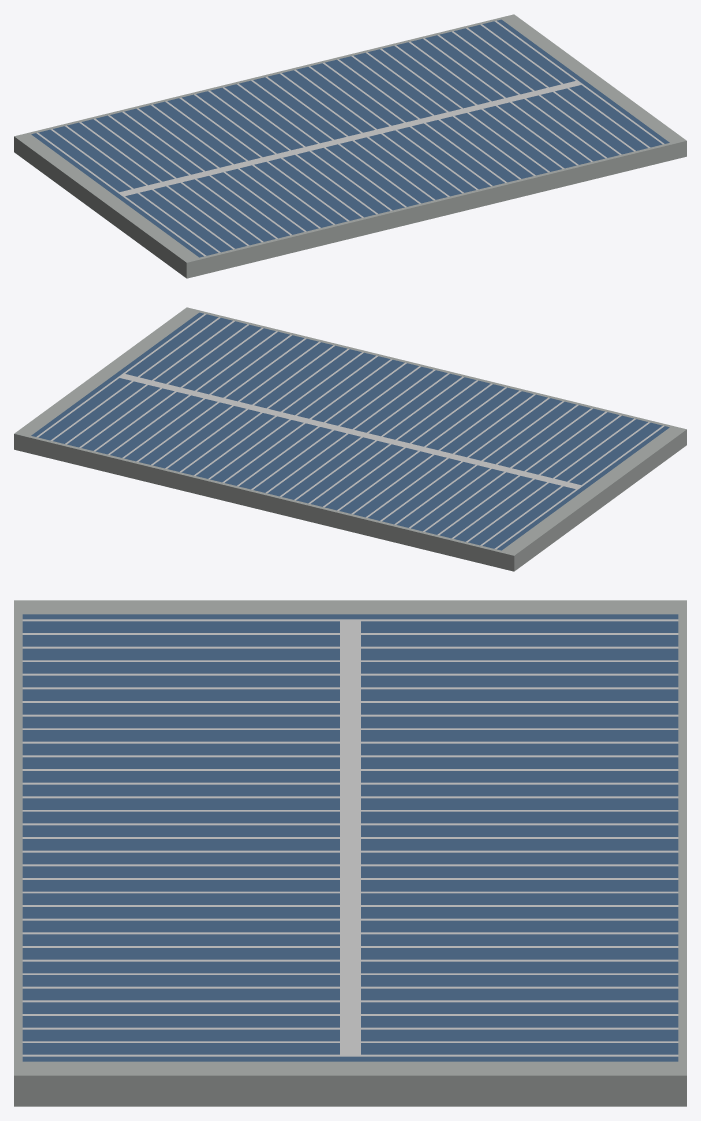
3 views of the same model, one above another, from view 1: azimuth 30°, elevation 25°; view 2: azimuth 150°, elevation 25°; view 3: azimuth 270°, elevation 25° (orthographic). The views are drawn at different scales.
Visible parts, largest first — view 1: world; view 2: world; view 3: world.
Boxes of the visible parts, x1,y1,x2,y2 form: world: (14, 14, 686, 278); world: (14, 307, 686, 571); world: (14, 600, 686, 1106).
Size of the model in its own units: 0.1056 by 0.0032 by 0.0632.
